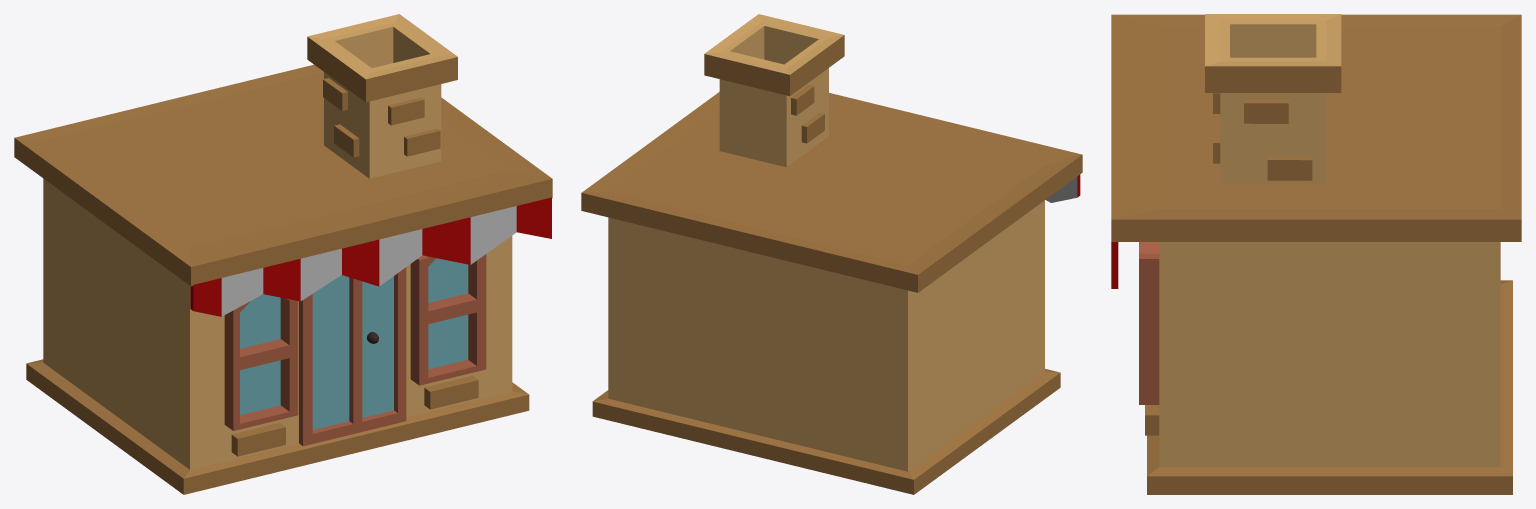
Rendered from Building#2.fbx.
The picture shows the model from 3 angles, left to right: view 1: azimuth 30°, elevation 25°; view 2: azimuth 150°, elevation 25°; view 3: azimuth 270°, elevation 25°; orthographic projection. The views are drawn at different scales.
Visible parts, largest first — view 1: pCube39, pCube31; view 2: pCube39; view 3: pCube39.
Boxes of the visible parts, x1=… form: pCube39: x1=14, y1=14, x2=552, y2=494; pCube31: x1=190, y1=197, x2=551, y2=316; pCube39: x1=581, y1=14, x2=1082, y2=494; pCube39: x1=1111, y1=14, x2=1521, y2=494.
Size of the model in its own units: 13.53 by 12.4 by 11.45.
